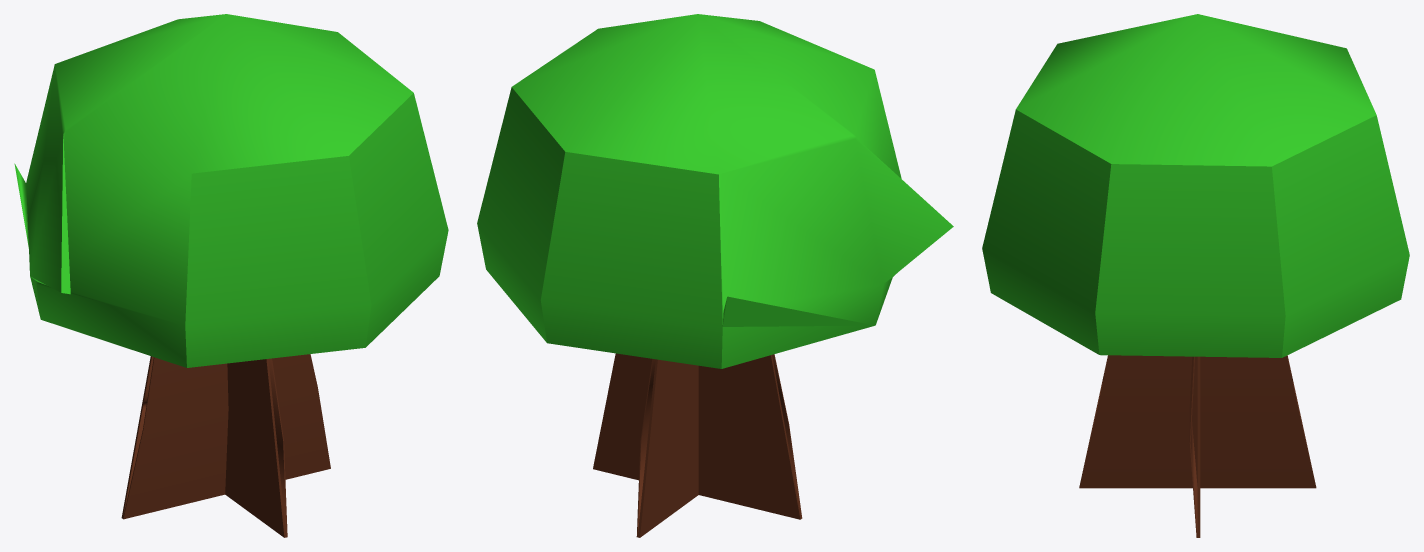
The model's file is Arbre_01.FBX.
3 views of the same model, side by side, from view 1: azimuth 30°, elevation 25°; view 2: azimuth 150°, elevation 25°; view 3: azimuth 270°, elevation 25° (orthographic).
Parts seen in each view (by area): view 1: Arbre_01; view 2: Arbre_01; view 3: Arbre_01.
Boxes of the visible parts, x1,y1,x2,y2 form: Arbre_01: (14, 14, 448, 537); Arbre_01: (477, 14, 953, 537); Arbre_01: (982, 14, 1409, 537).
Bounding box in the file's own units: 373 × 442 × 361.
